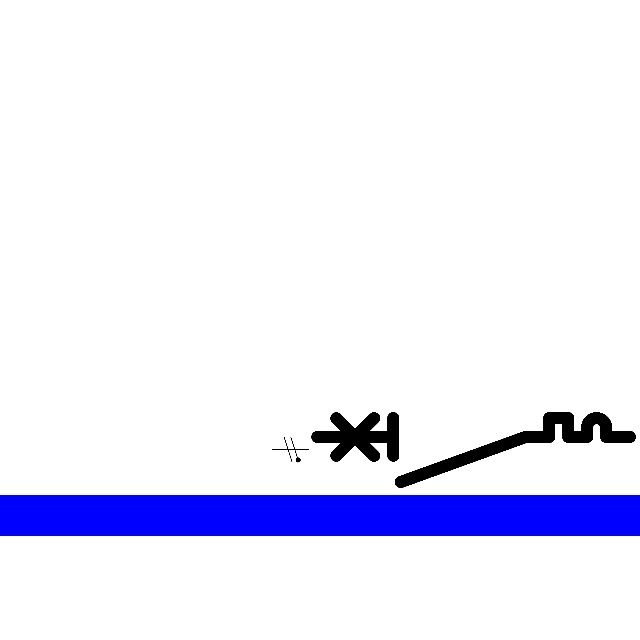interruptor_termomagnetico: (309, 410, 638, 490)
